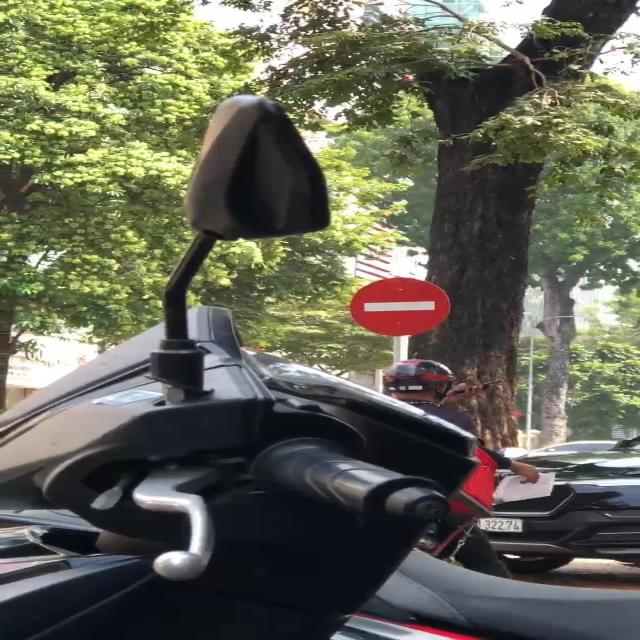Bien bao cam di nguoc chieu: (347, 274, 454, 342)
